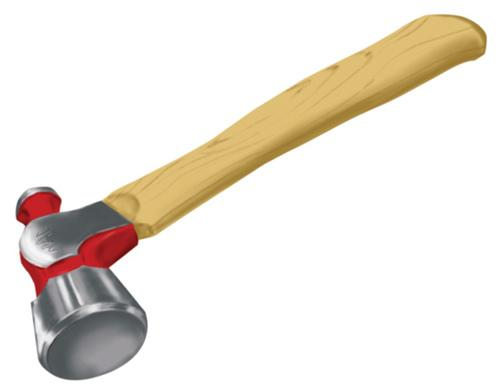hammer: (12, 11, 487, 380)
